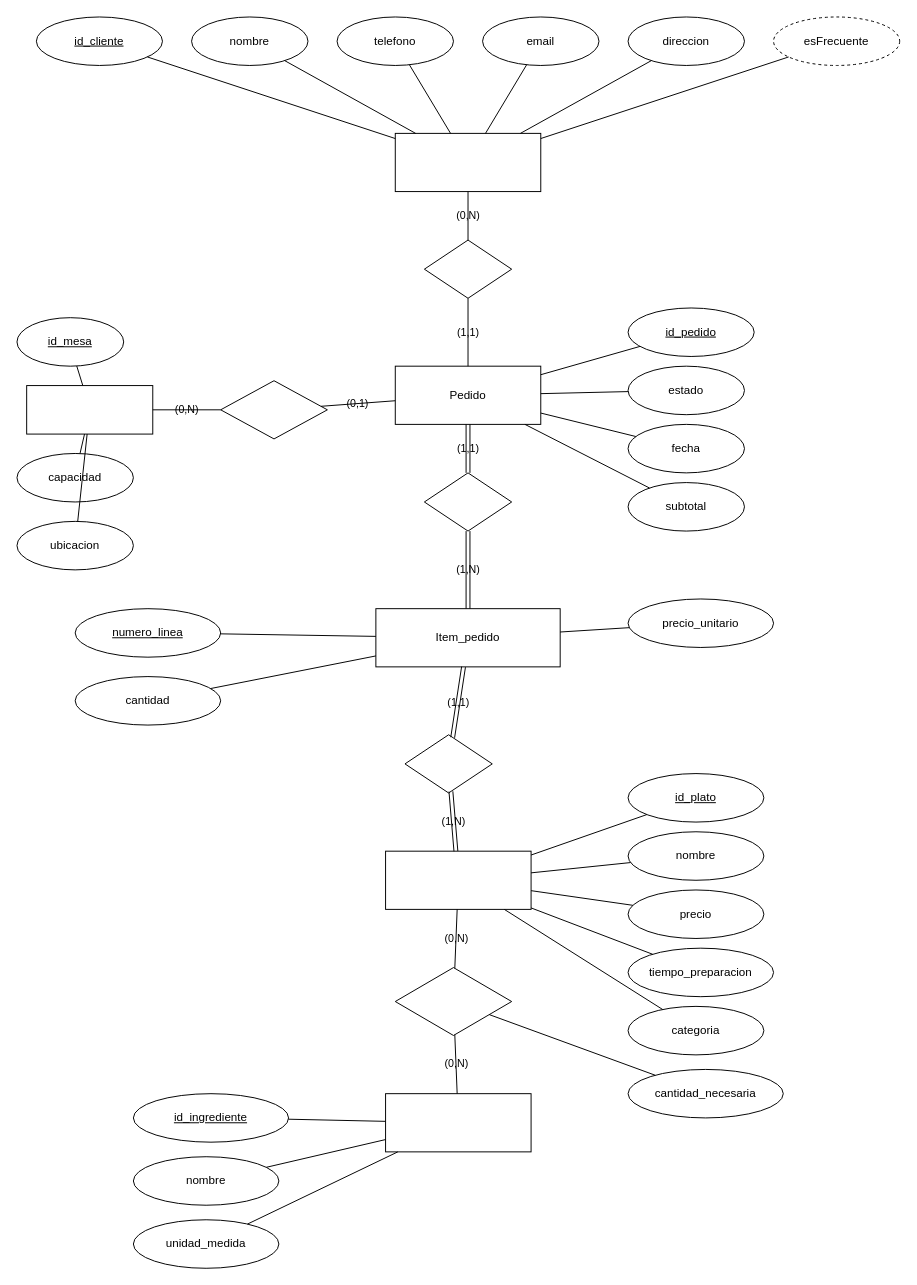
Image size: 917x1285. Some labels were removed from this diagram. The shapes that lost their labels are listed below. From the top down, each one's centre as x and y in pixels, then its label:
At (x=467, y=162): "Cliente".
At (x=467, y=268): "Realiza".
At (x=89, y=409): "Mesa".
At (x=273, y=409): "Ocupa".
At (x=467, y=501): "Compone".
At (x=448, y=763): "Incluye".
At (x=458, y=879): "Plato".
At (x=453, y=1001): "Contiene".
At (x=458, y=1122): "Ingrediente".
